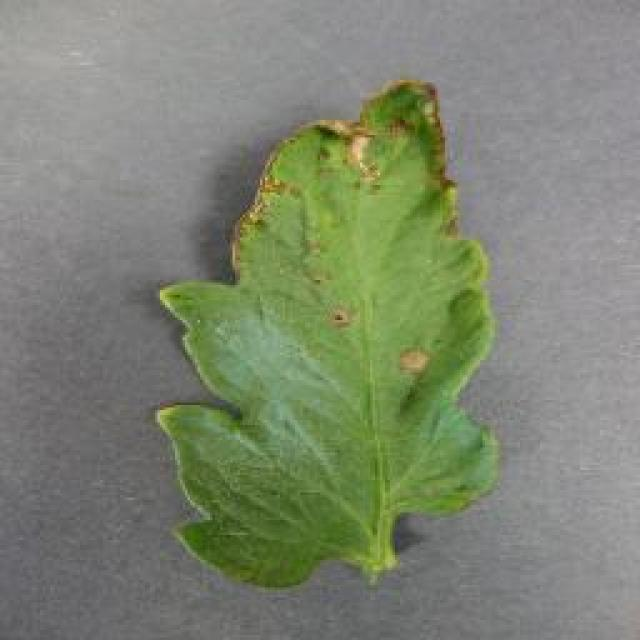Tomato bacterial spot leaf: (156, 78, 506, 592)
